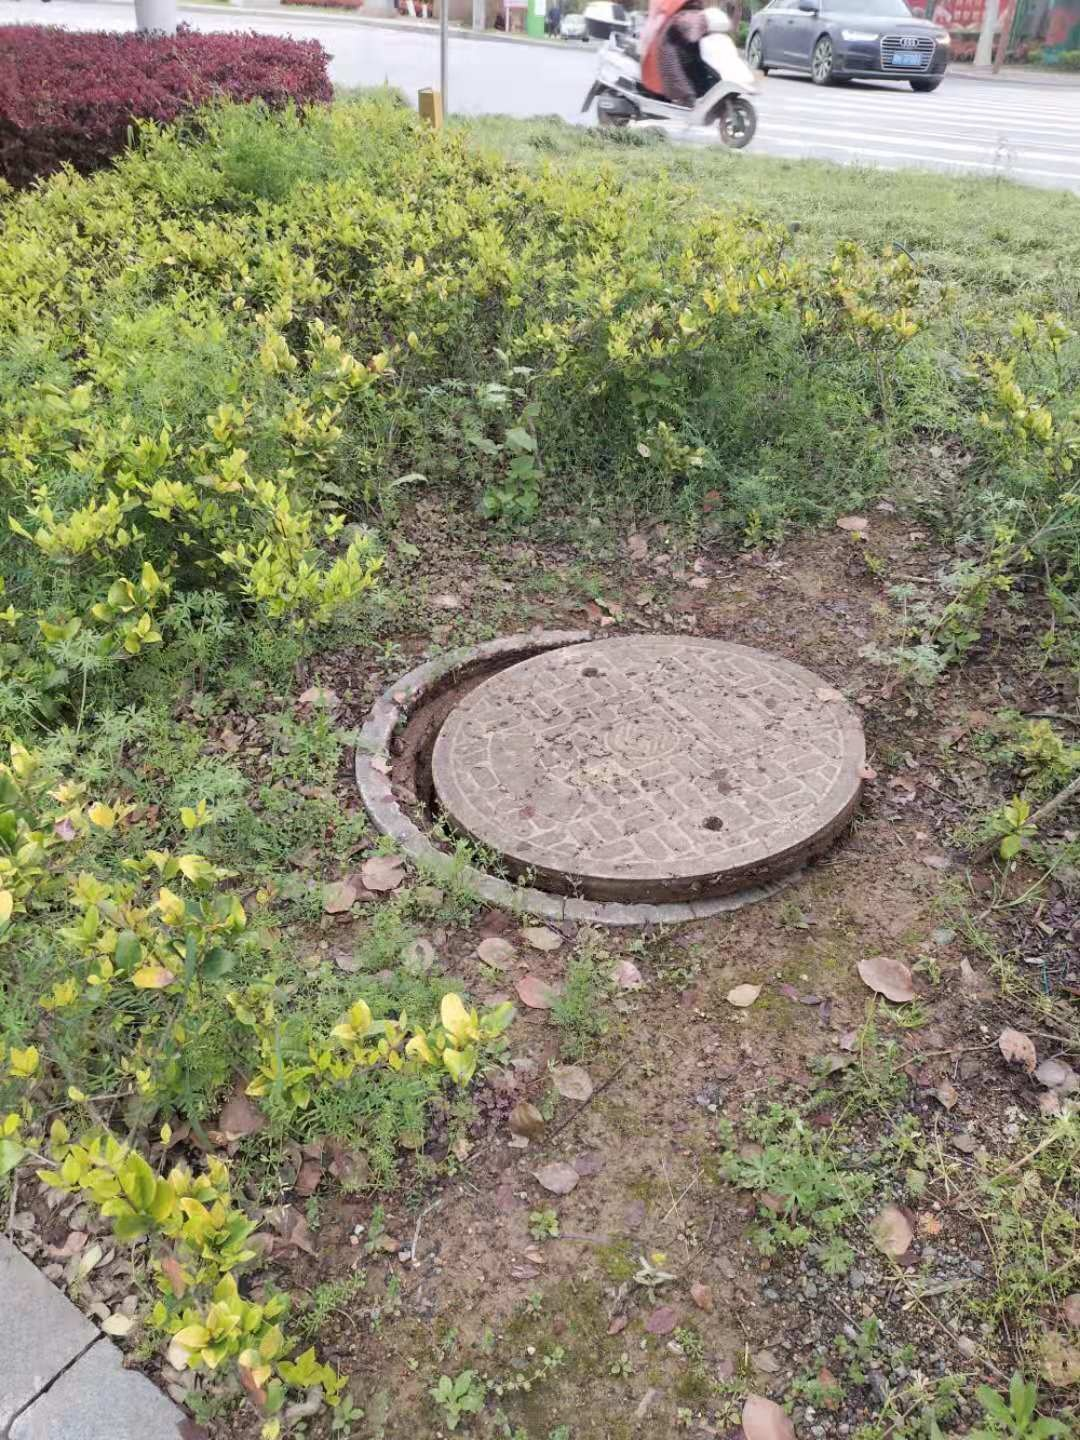uncovered: (358, 630, 864, 922)
